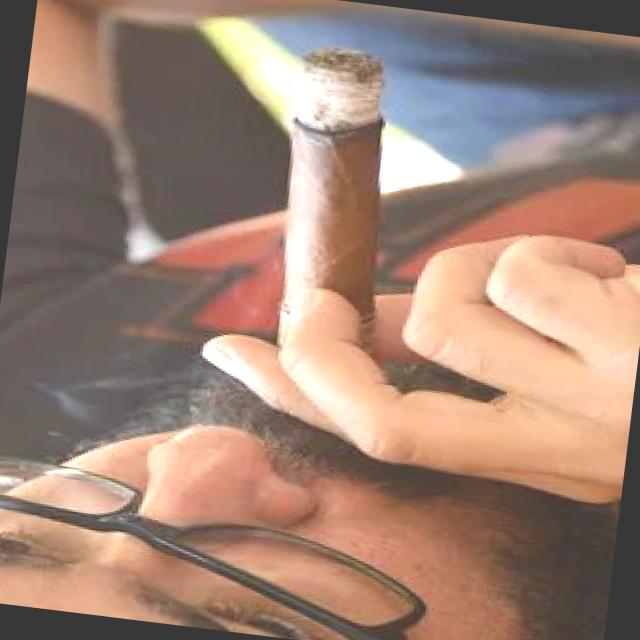cigarette: (254, 32, 416, 374)
